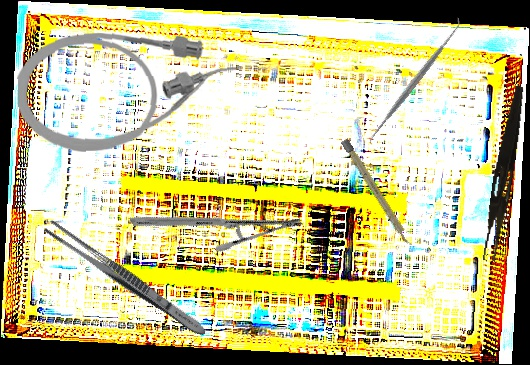Cannula: (16, 28, 239, 154)
Dressing Forceps: (41, 218, 211, 341), (481, 84, 527, 263)
Needle Holder: (129, 145, 304, 299)
Scalpel Handle: (340, 138, 414, 248)
Spatula Surgical: (360, 15, 470, 148)
